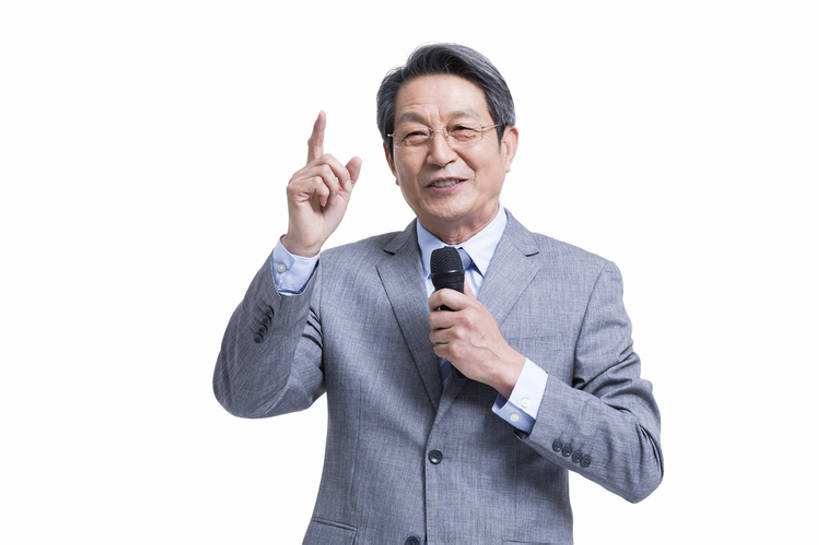no-phone: (283, 110, 366, 247)
